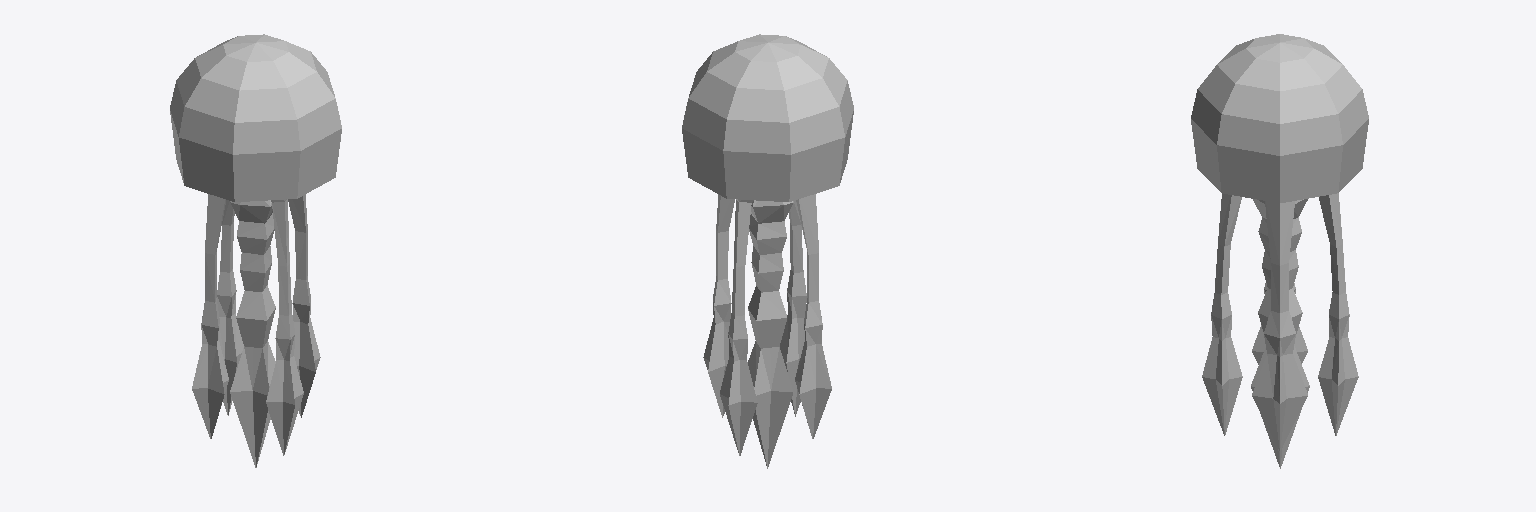
Rendered from Brain Squid.obj.
3 views of the same model, side by side, from view 1: azimuth 30°, elevation 25°; view 2: azimuth 150°, elevation 25°; view 3: azimuth 270°, elevation 25° (orthographic).
Parts seen in each view (by area): view 1: MODELS_bin_010:poly000_Untitled.001; view 2: MODELS_bin_010:poly000_Untitled.001; view 3: MODELS_bin_010:poly000_Untitled.001.
Part boxes in pixels (left/top/right/bottom): MODELS_bin_010:poly000_Untitled.001: left=170, top=34, right=341, bottom=467; MODELS_bin_010:poly000_Untitled.001: left=682, top=34, right=853, bottom=468; MODELS_bin_010:poly000_Untitled.001: left=1191, top=34, right=1368, bottom=468.
Bounding box in the file's own units: 2.31 × 6.09 × 2.31.